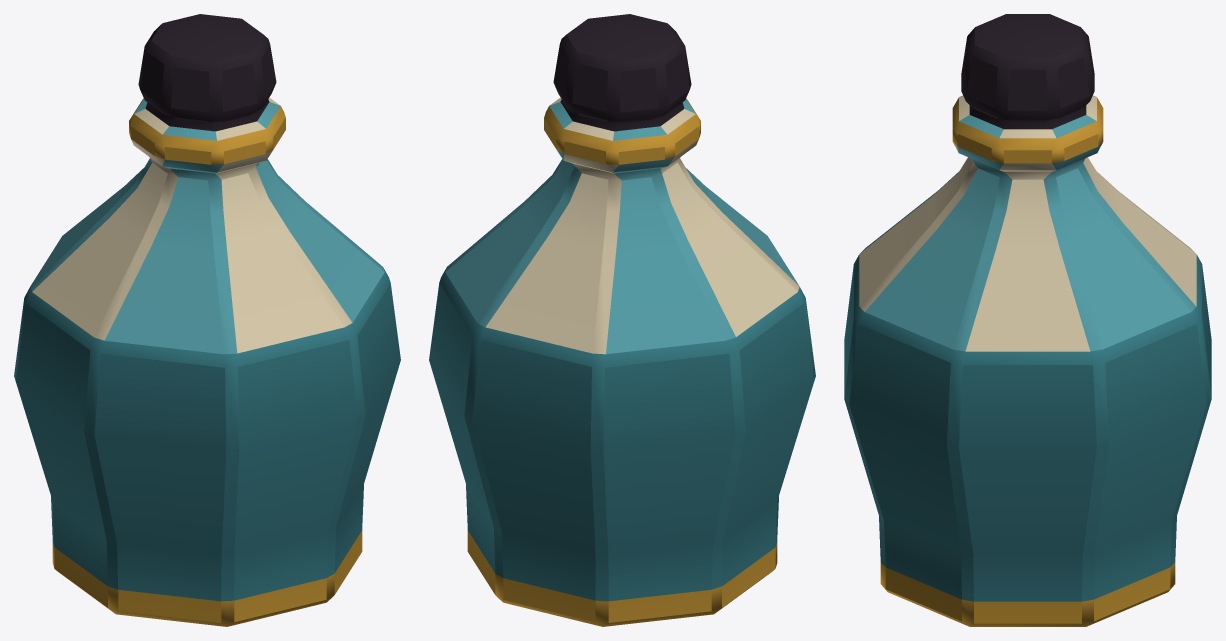
The model's file is Bottle_02.glb.
3 views of the same model, side by side, from view 1: azimuth 30°, elevation 25°; view 2: azimuth 150°, elevation 25°; view 3: azimuth 270°, elevation 25° (orthographic).
Visible parts, largest first — view 1: Bottle_02; view 2: Bottle_02; view 3: Bottle_02.
Boxes of the visible parts, x1,y1,x2,y2 form: Bottle_02: (14, 14, 400, 626); Bottle_02: (429, 14, 815, 626); Bottle_02: (844, 14, 1211, 626).
Size of the model in its own units: 1.3 by 2.1 by 1.3.
